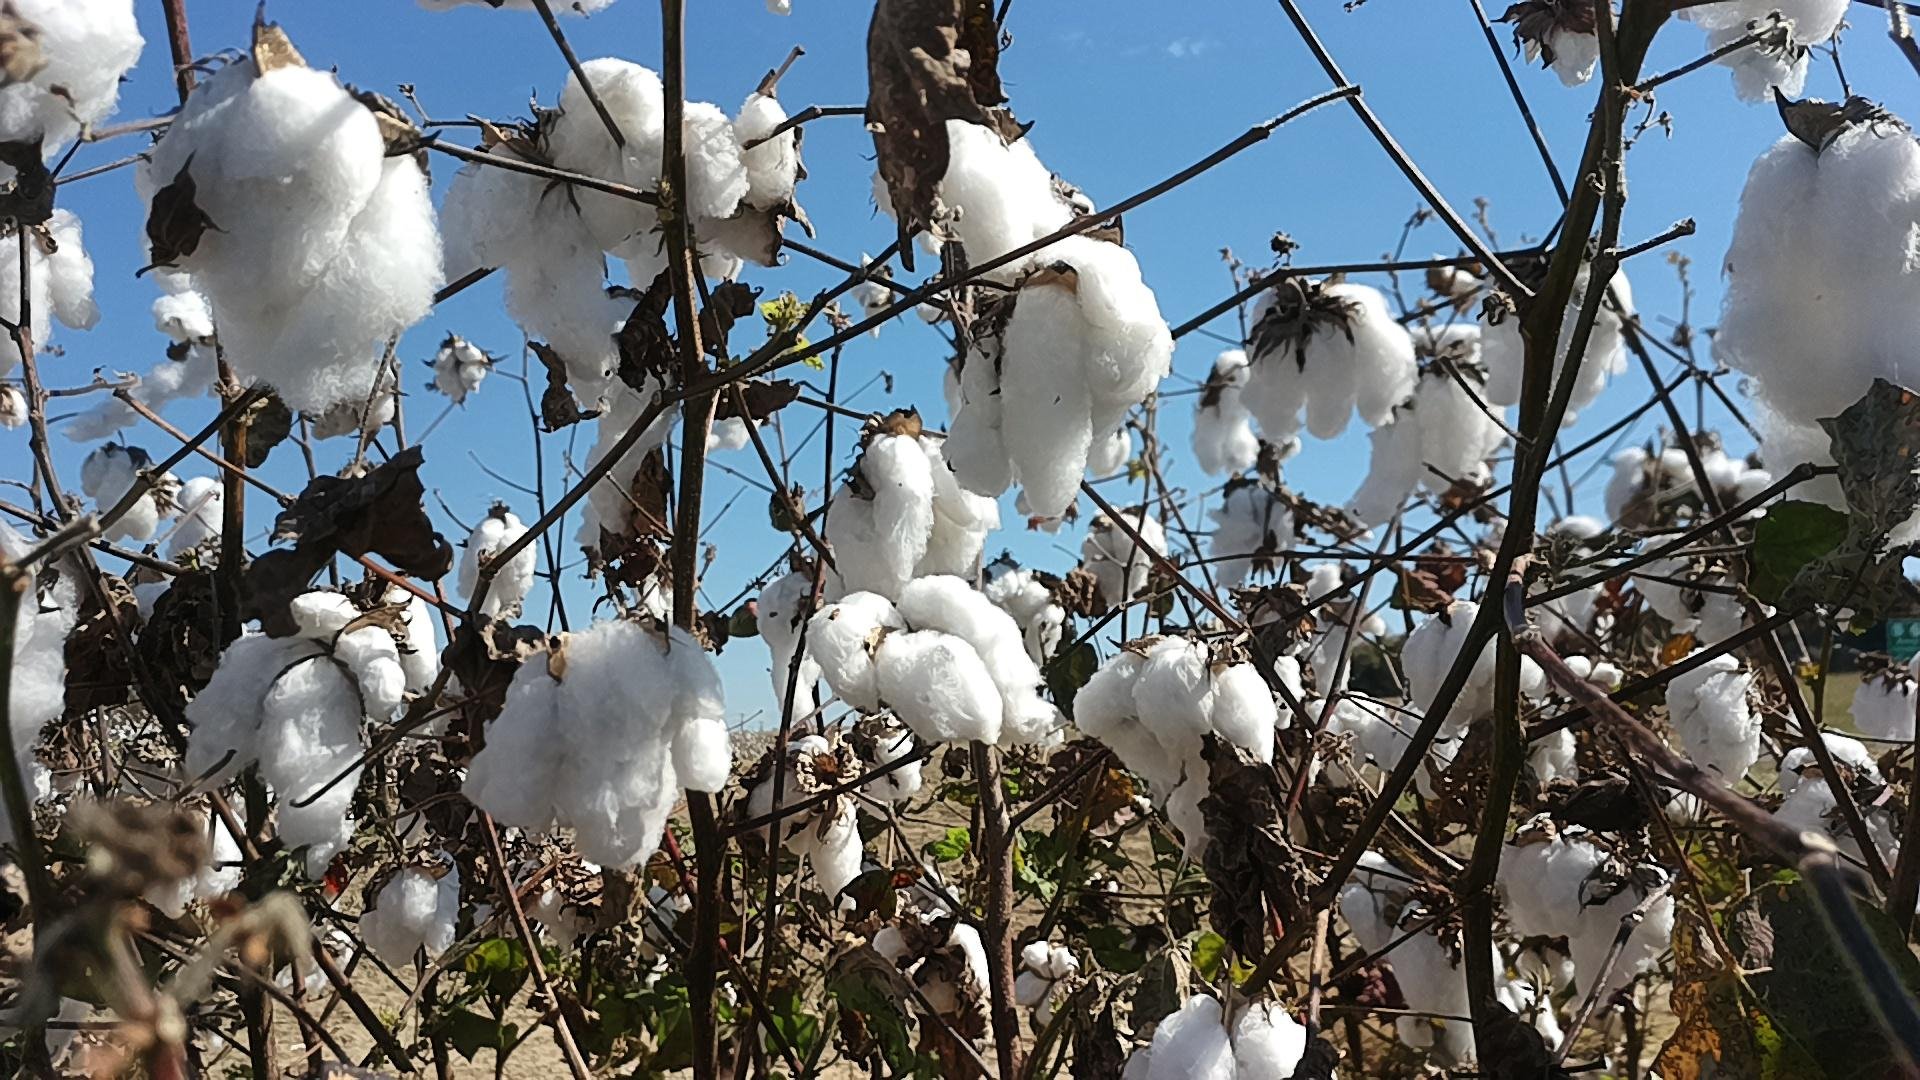cotton_ready: (868, 111, 1170, 527), (140, 63, 446, 411), (440, 55, 742, 384), (460, 613, 737, 869), (1709, 123, 1920, 427), (178, 588, 410, 849), (1336, 851, 1565, 1064), (1073, 636, 1279, 861), (808, 575, 1062, 748), (1342, 326, 1507, 535), (632, 86, 798, 287), (824, 430, 1004, 599), (1499, 835, 1673, 1007), (0, 0, 150, 190), (563, 293, 671, 553), (1242, 284, 1418, 443), (1484, 253, 1633, 413), (0, 518, 69, 849), (1758, 410, 1920, 545), (746, 736, 861, 905), (1783, 733, 1917, 877), (1684, 0, 1853, 105), (1406, 600, 1538, 735), (0, 207, 103, 378), (1298, 695, 1472, 791), (1121, 996, 1309, 1080), (870, 918, 996, 1023), (1665, 653, 1760, 786), (1634, 539, 1746, 650), (1523, 520, 1618, 650), (1188, 351, 1282, 476), (360, 865, 463, 973), (758, 568, 828, 719), (1073, 505, 1171, 609), (1213, 483, 1300, 596), (78, 446, 179, 541), (455, 513, 535, 617), (1528, 4, 1623, 91), (1855, 669, 1920, 771), (853, 715, 926, 806), (1010, 940, 1077, 1025)
